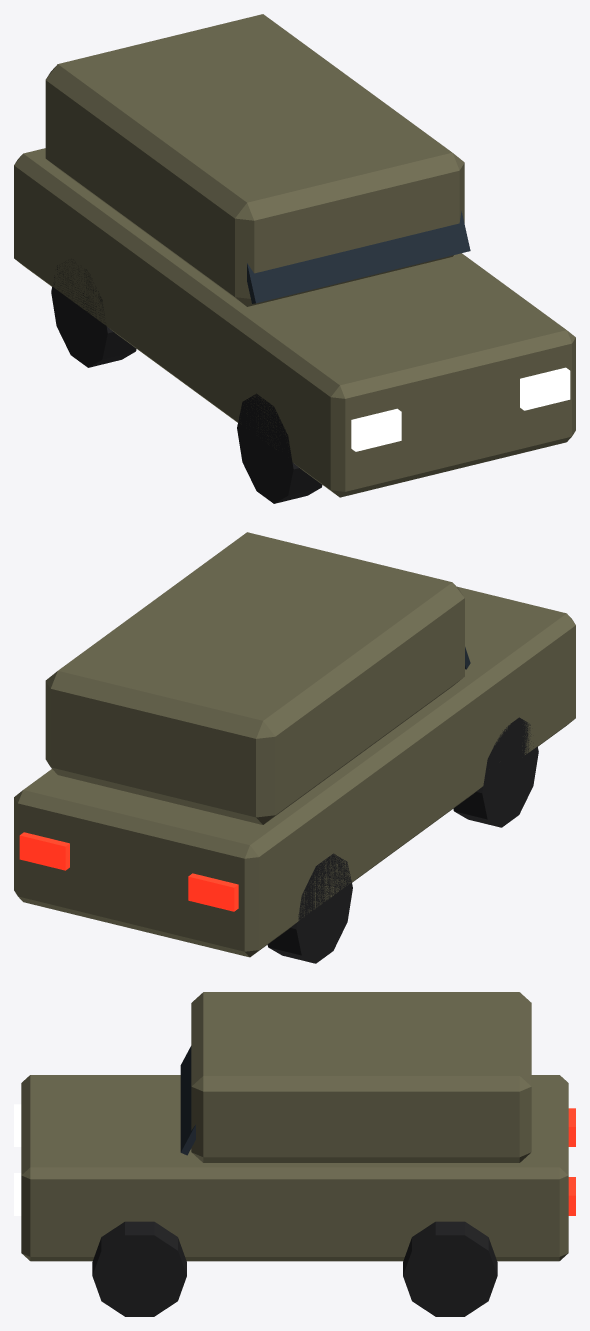
File: car_d.glb
The picture shows the model from 3 angles, top to bottom: view 1: azimuth 30°, elevation 25°; view 2: azimuth 150°, elevation 25°; view 3: azimuth 270°, elevation 25°; orthographic projection. The views are drawn at different scales.
Parts seen in each view (by area): view 1: car_d; view 2: car_d; view 3: car_d.
Boxes of the visible parts, x1,y1,x2,y2 form: car_d: [14, 14, 575, 503]; car_d: [14, 532, 575, 963]; car_d: [14, 992, 575, 1316].
Bounding box in the file's own units: 1.82 × 1.63 × 3.8.
